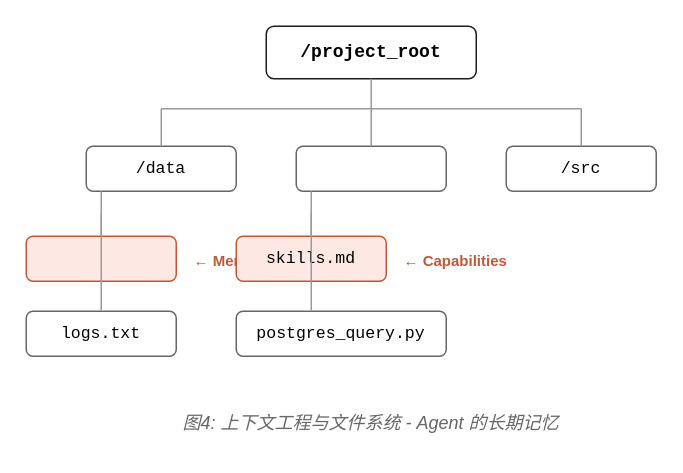
The diagram is 683 pixels wide and 473 high, and some of its shapes have lost their labels. The box of each missing label's shape, as (x1, y1, x2, y2) in pixels:
/skills: (295, 145, 446, 191)
output.json: (25, 235, 176, 281)
